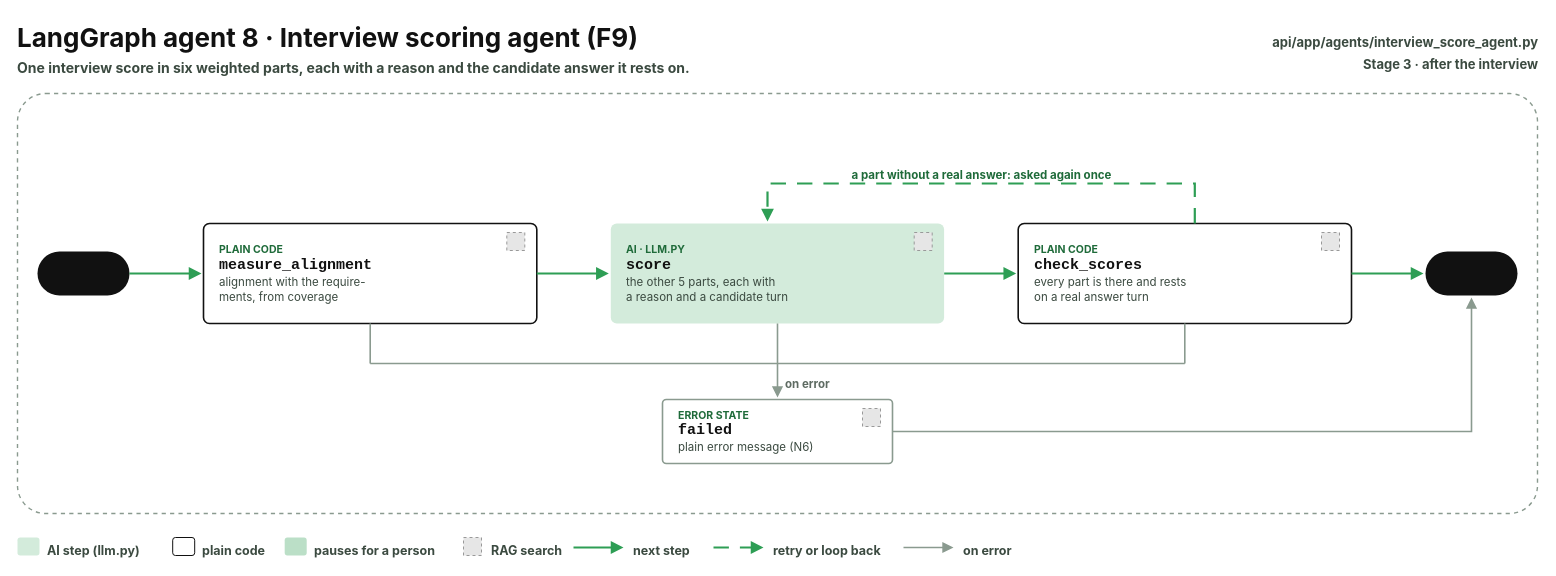
Some shapes in this 1556 by 576 pixel diagram are drawn without their labels. Grey dashed boxes stand in for pictures. Each missing label, with the centre of its shape:
"END" goes at point (1471, 273).
"START" goes at point (83, 273).
